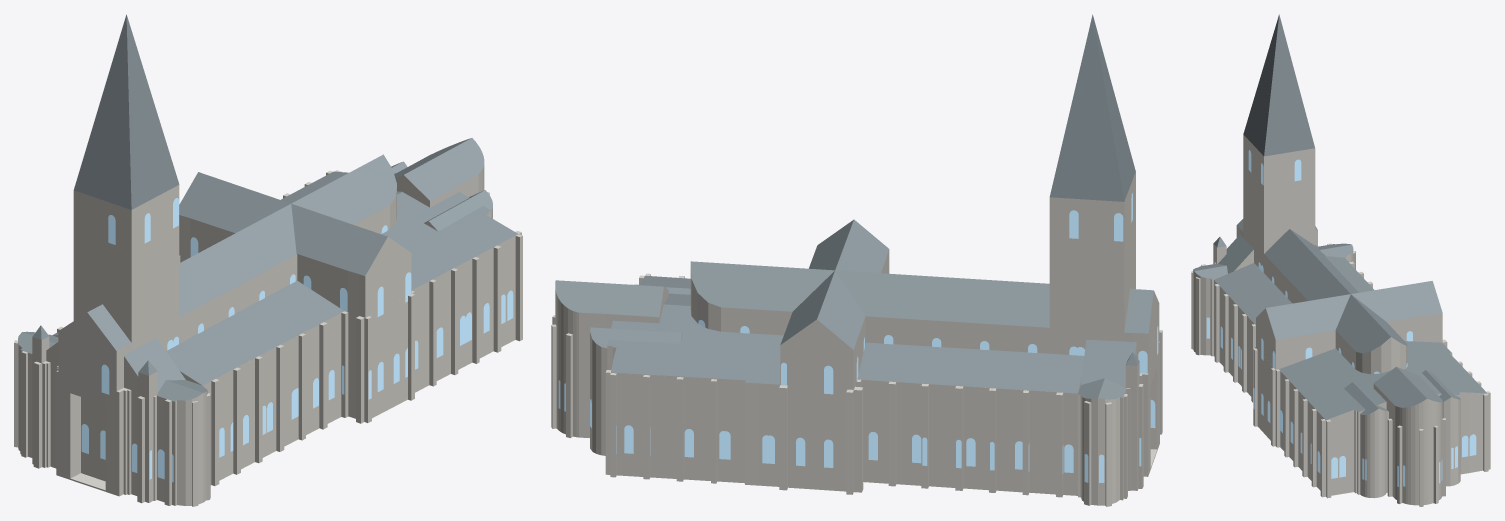
The picture shows the model from 3 angles, left to right: view 1: azimuth 30°, elevation 25°; view 2: azimuth 150°, elevation 25°; view 3: azimuth 270°, elevation 25°; orthographic projection. The views are drawn at different scales.
Visible parts, largest first — view 1: stone, roof, window; view 2: stone, roof, window; view 3: stone, roof, window.
Boxes of the visible parts, bbox=[...] form: stone: bbox=[14, 164, 522, 506]; roof: bbox=[18, 14, 517, 401]; window: bbox=[81, 198, 513, 482]; stone: bbox=[551, 171, 1162, 506]; roof: bbox=[555, 14, 1153, 399]; window: bbox=[558, 193, 1158, 482]; stone: bbox=[1191, 134, 1490, 506]; roof: bbox=[1193, 14, 1486, 419]; window: bbox=[1206, 150, 1476, 486].
Size of the model in its own units: 94.9 by 78 by 63.94.
